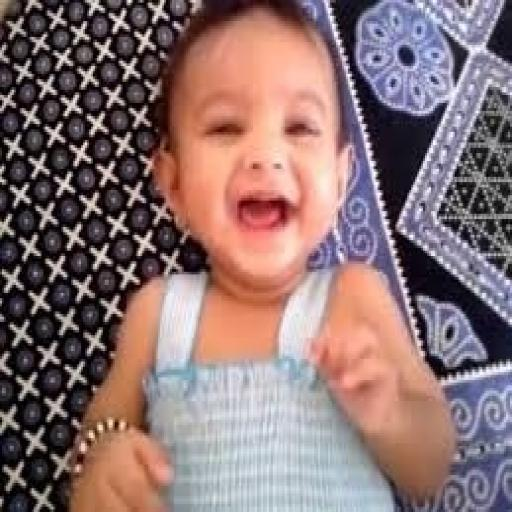laughing: (59, 0, 460, 509)
